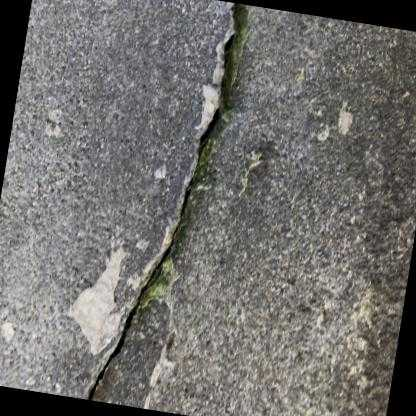crack: (85, 1, 235, 400)
